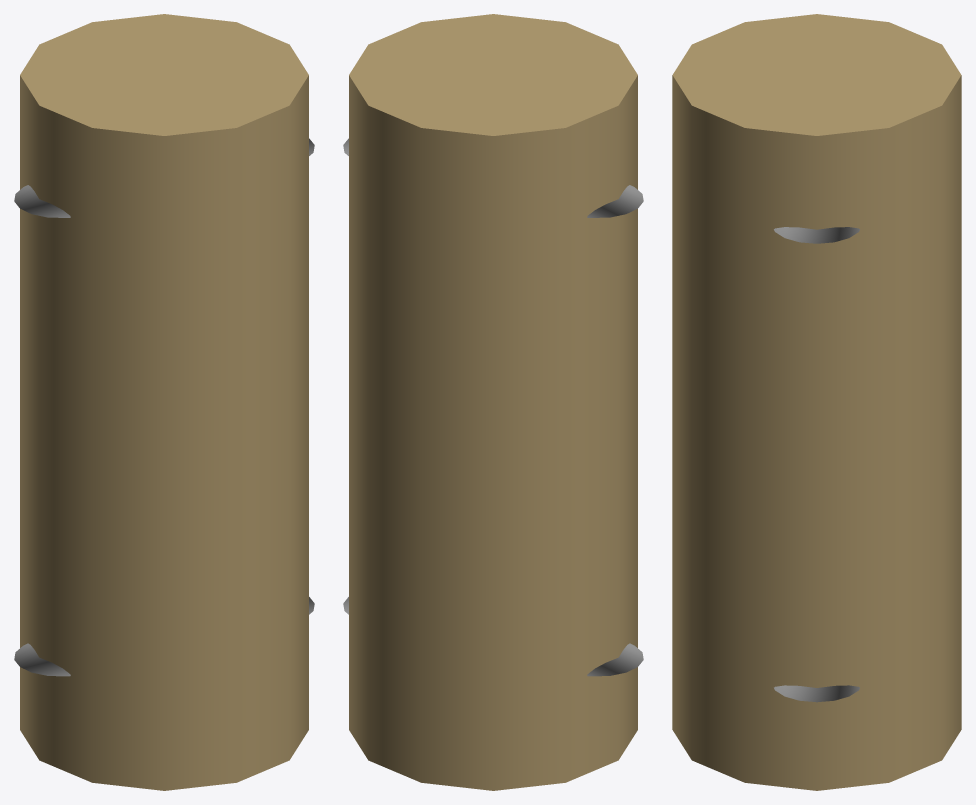
File: env-med-barrel.glb
3 views of the same model, side by side, from view 1: azimuth 30°, elevation 25°; view 2: azimuth 150°, elevation 25°; view 3: azimuth 270°, elevation 25° (orthographic).
Size of the model in its own units: 0.462 by 1 by 0.4.
